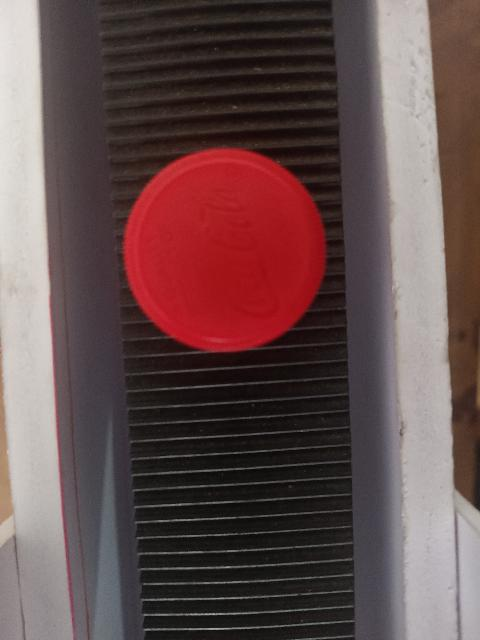bottlecap: (116, 133, 336, 363)
